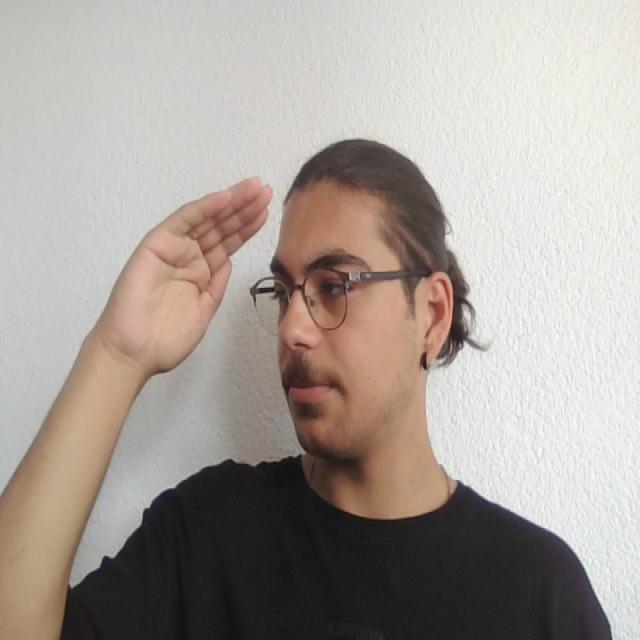Merhaba: (105, 160, 306, 416)
